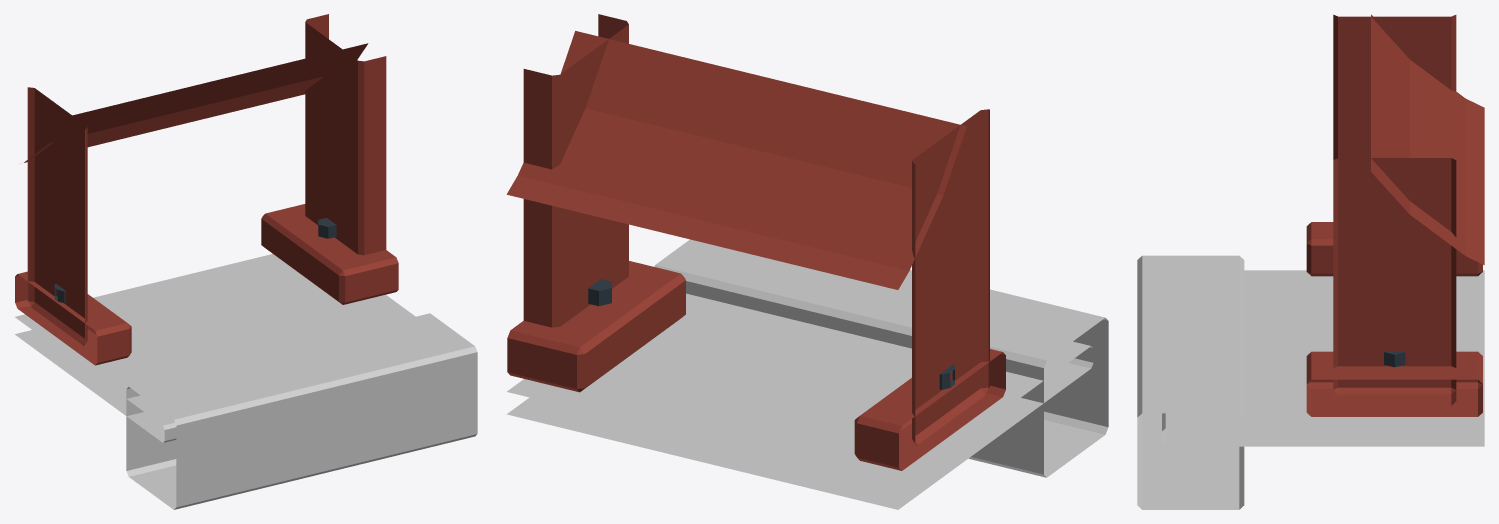
Rendered from cell_20.obj.
The picture shows the model from 3 angles, left to right: view 1: azimuth 30°, elevation 25°; view 2: azimuth 150°, elevation 25°; view 3: azimuth 270°, elevation 25°; orthographic projection. The views are drawn at different scales.
Bounding box in the file's own units: 1 × 1 × 0.93.
